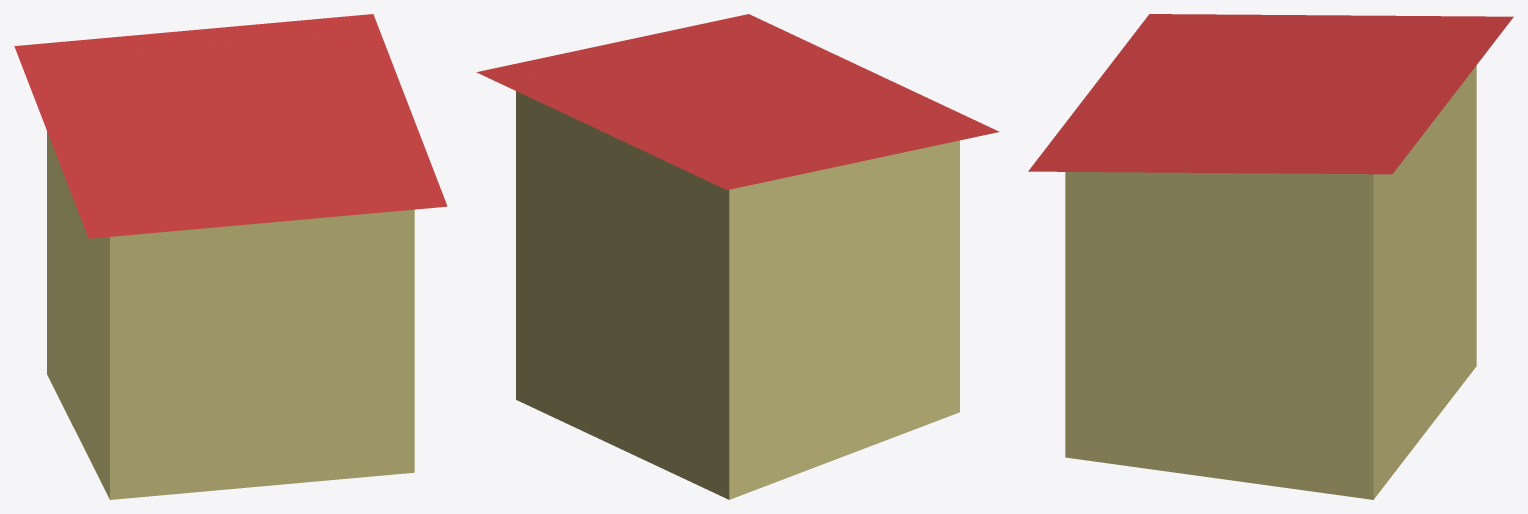
3 renders of one model, left to right at view 1: azimuth 30°, elevation 25°; view 2: azimuth 150°, elevation 25°; view 3: azimuth 270°, elevation 25°, orthographic. The views are drawn at different scales.
Bounding box in the file's own units: 8.31 × 8.22 × 6.37.
